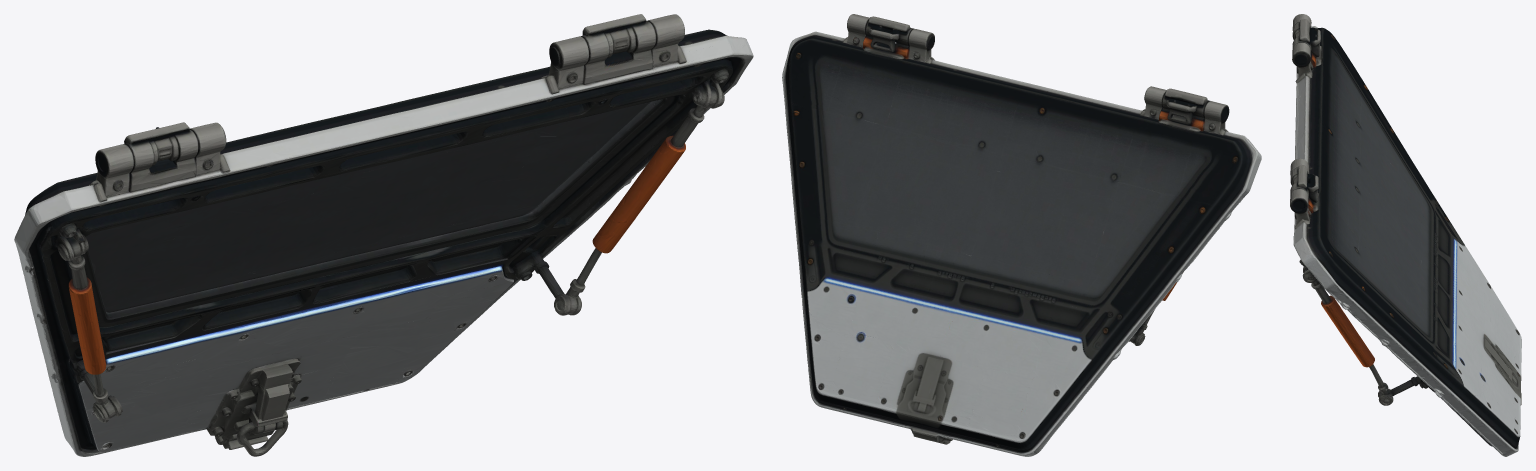
File: hood.glb
3 renders of one model, left to right at view 1: azimuth 30°, elevation 25°; view 2: azimuth 150°, elevation 25°; view 3: azimuth 270°, elevation 25°, orthographic. The views are drawn at different scales.
Bounding box in the file's own units: 1 × 0.6424 × 0.4307.
1 material, 1 textured.
